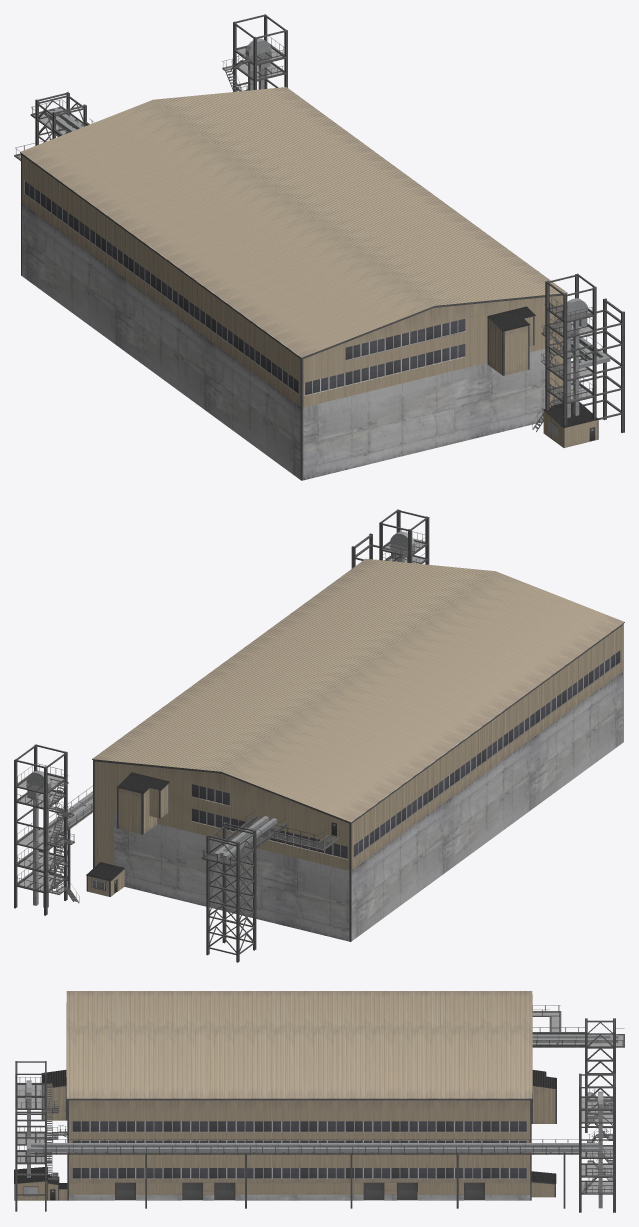
File: plant-building8.glb
The picture shows the model from 3 angles, top to bottom: view 1: azimuth 30°, elevation 25°; view 2: azimuth 150°, elevation 25°; view 3: azimuth 270°, elevation 25°; orthographic projection. The views are drawn at different scales.
Visible parts, largest first — view 1: Object8932553; view 2: Object8932553; view 3: Object8932553.
Part boxes in pixels (x1,y1,x2,y2): Object8932553: (14, 14, 624, 480); Object8932553: (14, 509, 624, 962); Object8932553: (14, 991, 624, 1212).
Bounding box in the file's own units: 47.11 × 23.12 × 102.
1 material, 1 textured.
